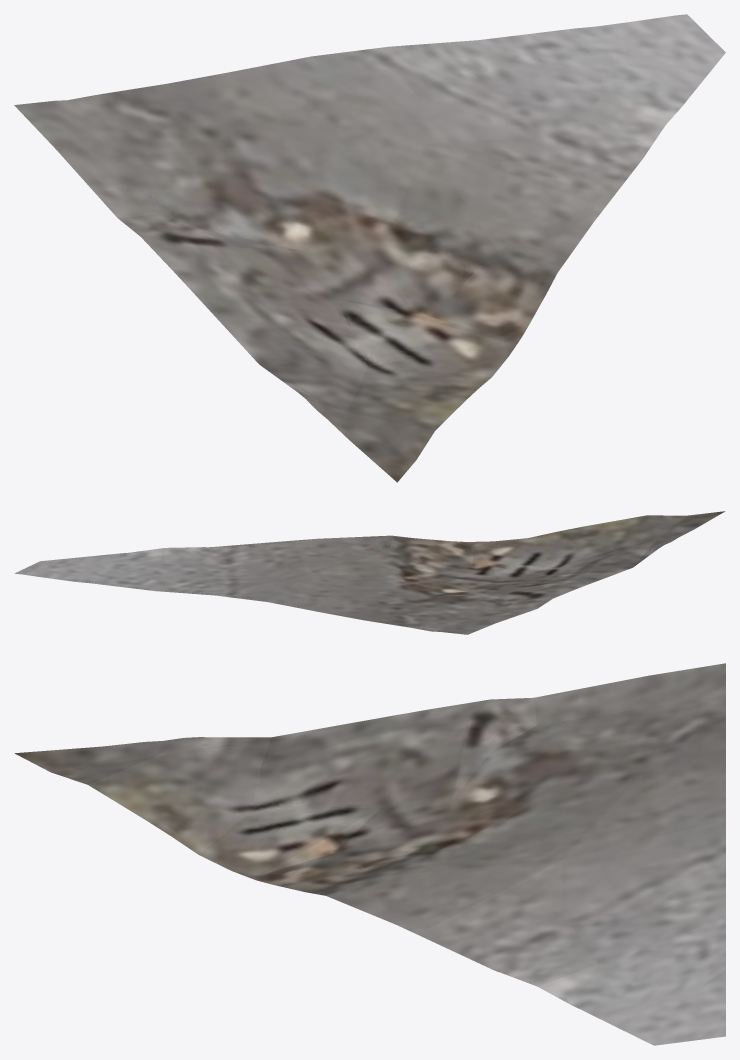
The picture shows the model from 3 angles, top to bottom: view 1: azimuth 30°, elevation 25°; view 2: azimuth 150°, elevation 25°; view 3: azimuth 270°, elevation 25°; orthographic projection. The views are drawn at different scales.
Bounding box in the file's own units: 1.67 × 0.2663 × 1.65.
Materials: 2 (2 with a texture image).
